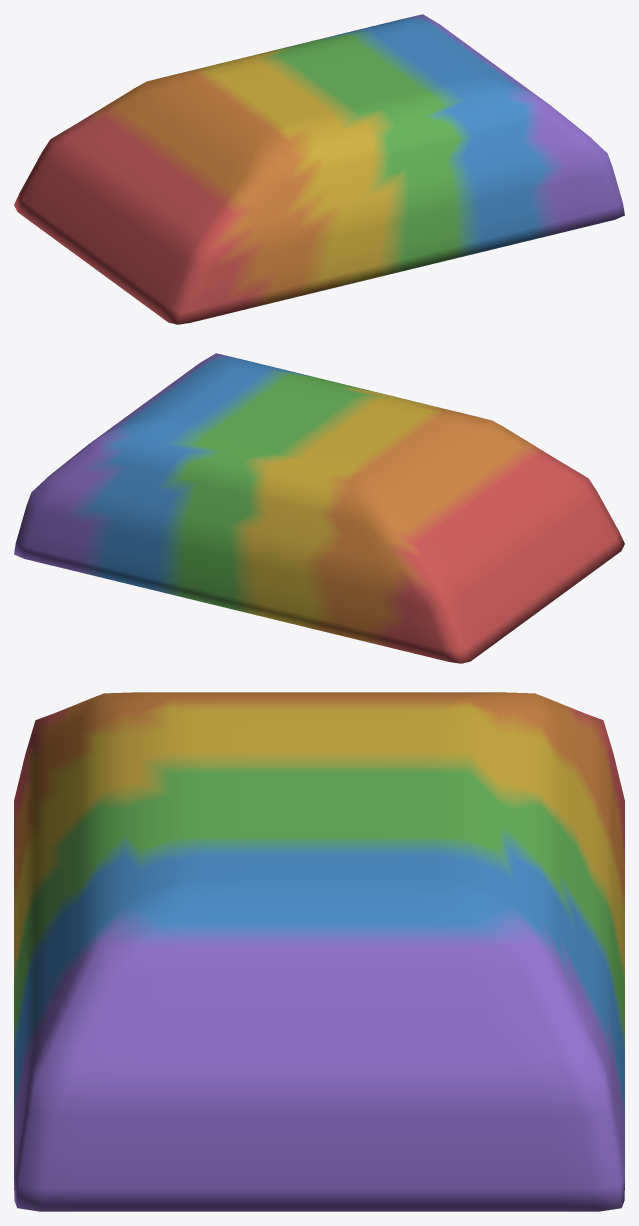
The model's file is Bar_Prism.glb.
3 renders of one model, top to bottom at view 1: azimuth 30°, elevation 25°; view 2: azimuth 150°, elevation 25°; view 3: azimuth 270°, elevation 25°, orthographic. The views are drawn at different scales.
Parts seen in each view (by area): view 1: Bar_prism; view 2: Bar_prism; view 3: Bar_prism.
Part boxes in pixels (x1,y1,x2,y2): Bar_prism: (14, 14, 624, 324); Bar_prism: (14, 353, 624, 663); Bar_prism: (14, 692, 624, 1211).
Size of the model in its own units: 0.93 by 0.256 by 0.5902.
